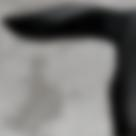brick: (0, 0, 68, 15), (76, 0, 135, 9)
crack: (0, 0, 135, 135)
